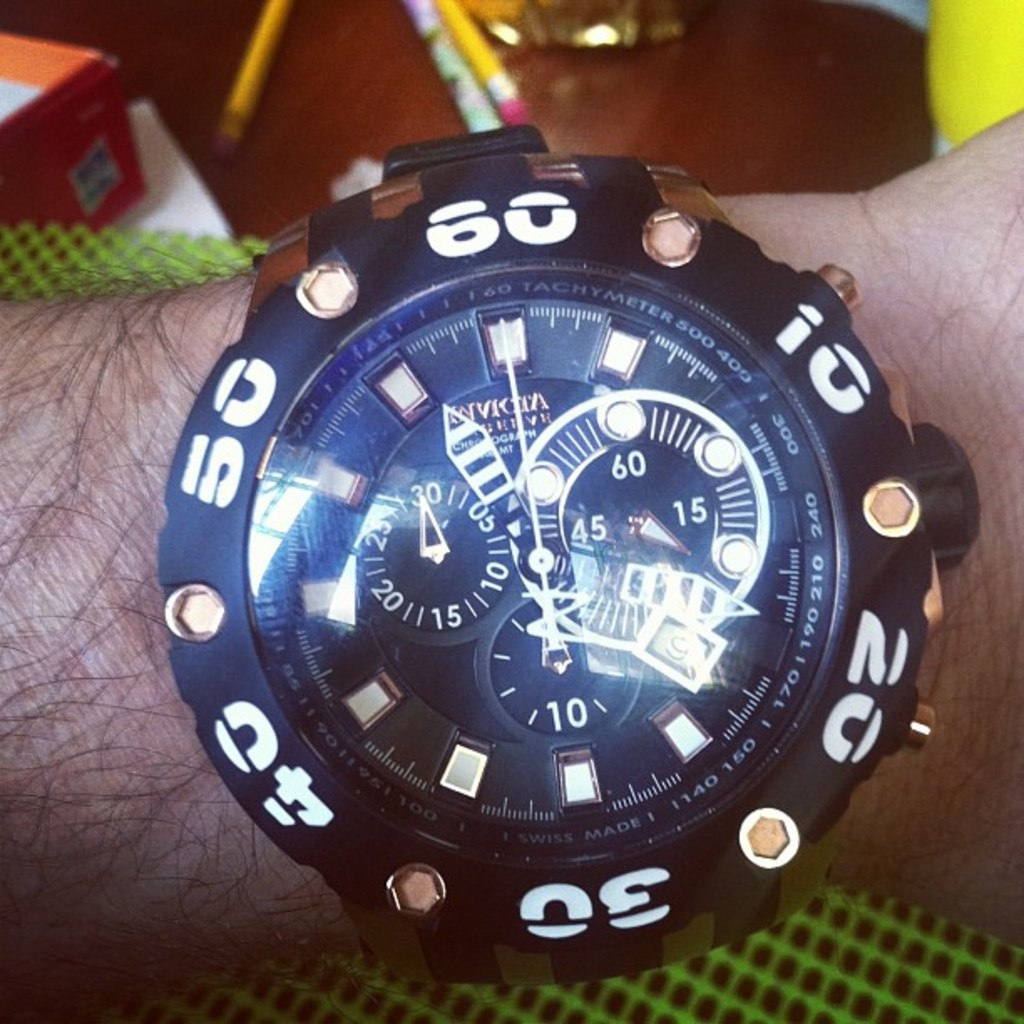watch: (160, 148, 965, 998)
